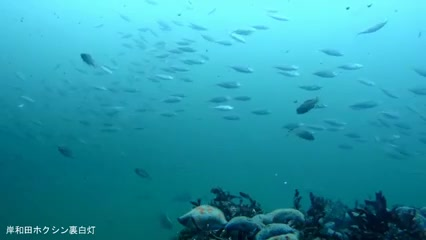smallfish: (349, 14, 397, 47), (293, 91, 320, 114)
